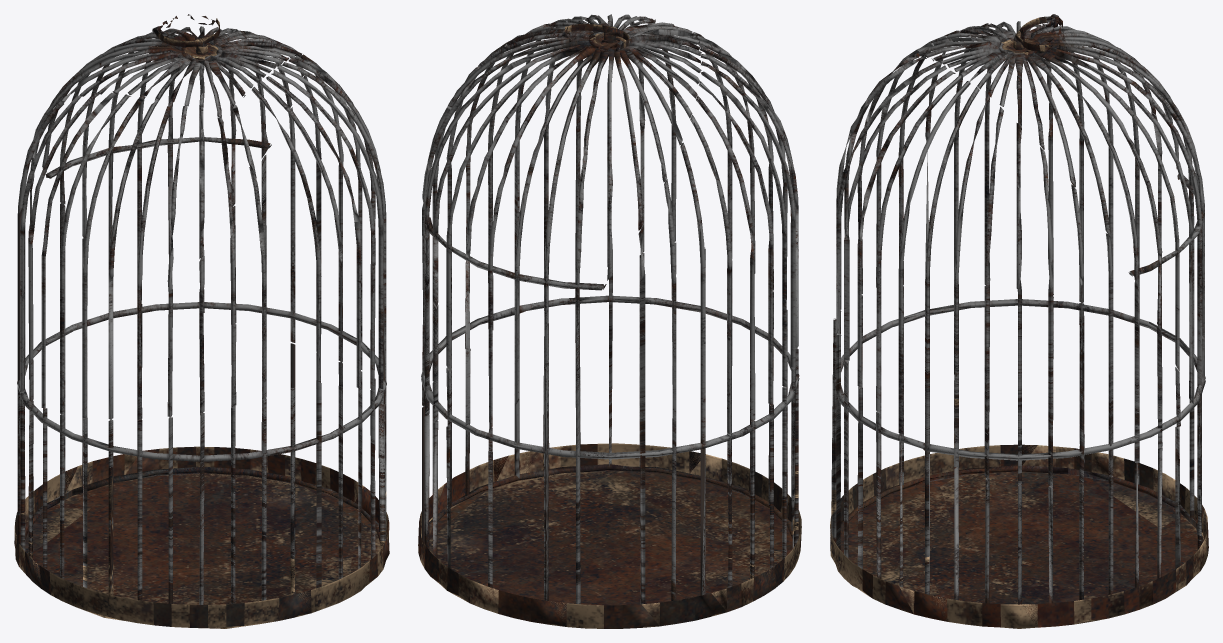
Rendered from Broken_Cage.glb.
3 renders of one model, left to right at view 1: azimuth 30°, elevation 25°; view 2: azimuth 150°, elevation 25°; view 3: azimuth 270°, elevation 25°, orthographic. The views are drawn at different scales.
Visible parts, largest first — view 1: Cylinder.002__0_cell.003, Cylinder.002__0_cell.002, Cylinder.002__0_cell.017, Cylinder.002__0_cell.014, Cylinder.002__0_cell.013, Cylinder.002__0_cell.050, Cylinder.002__0_cell.012, Cylinder.002__0_cell.049, Cylinder.002__0_cell.047, Cylinder.002__0_cell.051, Cylinder.002__0_cell.048, Cylinder.002__0_cell.046 (+27 smaller); view 2: Cylinder.002__0_cell.003, Cylinder.002__0_cell.002, Cylinder.002__0_cell.017, Cylinder.002__0_cell.042, Cylinder.002__0_cell.043, Cylinder.002__0_cell.049, Cylinder.002__0_cell.044, Cylinder.002__0_cell.046, Cylinder.002__0_cell.048, Cylinder.002__0_cell.045, Cylinder.002__0_cell.047, Cylinder.002__0_cell.050 (+24 smaller); view 3: Cylinder.002__0_cell.003, Cylinder.002__0_cell.002, Cylinder.002__0_cell.017, Cylinder.002__0_cell.014, Cylinder.002__0_cell.013, Cylinder.002__0_cell.012, Cylinder.002__0_cell.016, Cylinder.002__0_cell.015, Cylinder.002__0_cell.011, Cylinder.002__0_cell.010, Cylinder.002__0_cell.005, Cylinder.002__0_cell (+28 smaller).
Boxes of the visible parts, x1,y1,x2,y2 form: Cylinder.002__0_cell.003: (14,302,389,628); Cylinder.002__0_cell.002: (42,14,303,299); Cylinder.002__0_cell.017: (17,302,382,461); Cylinder.002__0_cell.014: (282,62,386,538); Cylinder.002__0_cell.013: (277,65,383,389); Cylinder.002__0_cell.050: (108,98,159,419); Cylinder.002__0_cell.012: (271,69,375,389); Cylinder.002__0_cell.049: (82,95,145,417); Cylinder.002__0_cell.047: (41,92,115,407); Cylinder.002__0_cell.051: (137,101,172,419); Cylinder.002__0_cell.048: (60,94,130,413); Cylinder.002__0_cell.046: (28,93,99,400); Cylinder.002__0_cell.003: (418,248,801,628); Cylinder.002__0_cell.002: (424,15,701,430); Cylinder.002__0_cell.017: (421,295,799,459); Cylinder.002__0_cell.042: (638,225,645,604); Cylinder.002__0_cell.043: (664,179,676,600); Cylinder.002__0_cell.049: (701,61,795,367); Cylinder.002__0_cell.044: (680,142,705,444); Cylinder.002__0_cell.046: (696,95,755,420); Cylinder.002__0_cell.048: (700,71,786,386); Cylinder.002__0_cell.045: (690,115,732,434); Cylinder.002__0_cell.047: (699,81,773,404); Cylinder.002__0_cell.050: (700,54,798,348); Cylinder.002__0_cell.003: (830,295,1208,628); Cylinder.002__0_cell.002: (918,14,1204,403); Cylinder.002__0_cell.017: (833,299,1205,457); Cylinder.002__0_cell.014: (925,86,979,594); Cylinder.002__0_cell.013: (898,81,970,433); Cylinder.002__0_cell.012: (876,75,961,411); Cylinder.002__0_cell.016: (984,107,1003,478); Cylinder.002__0_cell.015: (954,95,989,467); Cylinder.002__0_cell.011: (857,70,955,387); Cylinder.002__0_cell.010: (844,65,946,360); Cylinder.002__0_cell.005: (1040,147,1053,486); Cylinder.002__0_cell: (1016,123,1021,484).
Bounding box in the file's own units: 0.498 × 0.7646 × 0.4983.
Materials: 1 (1 with a texture image).
